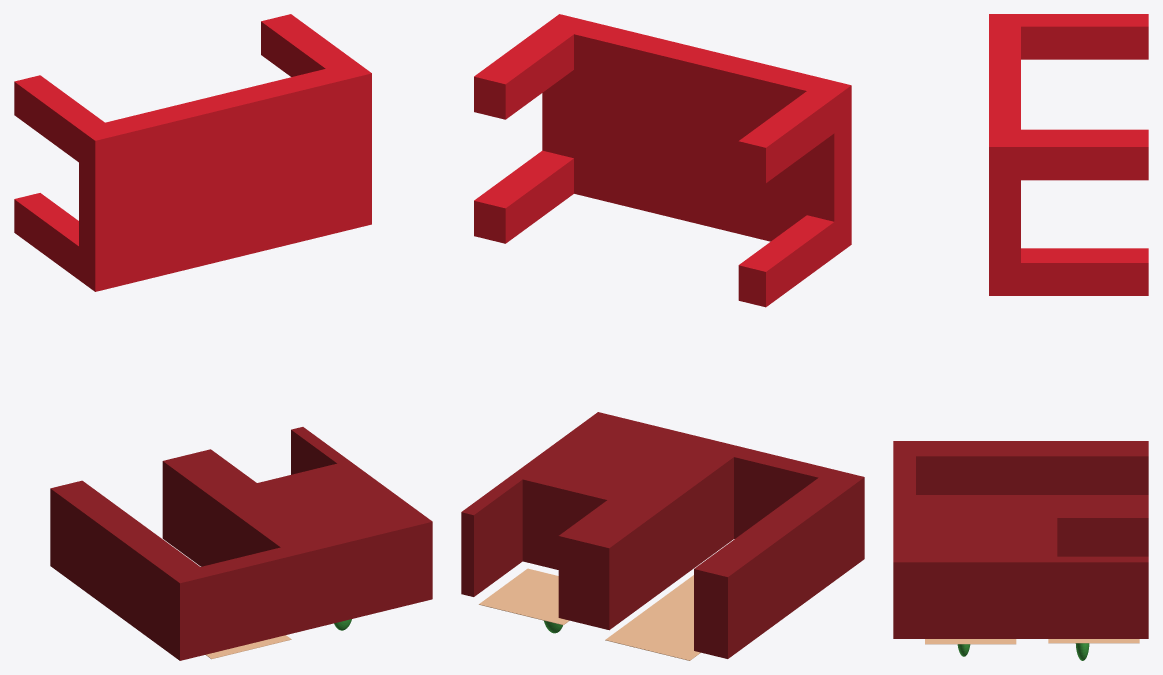
The model's file is tinker.obj.
3 renders of one model, left to right at view 1: azimuth 30°, elevation 25°; view 2: azimuth 150°, elevation 25°; view 3: azimuth 270°, elevation 25°, orthographic. The views are drawn at different scales.
Visible parts, largest first — view 1: group_0_15277357, group_0_9771553; view 2: group_0_15277357, group_0_9771553, group_0_16500122; view 3: group_0_9771553, group_0_15277357, group_0_16500122.
Boxes of the visible parts, x1=… form: group_0_15277357: x1=14, y1=14, x2=371, y2=291; group_0_9771553: x1=50, y1=427, x2=432, y2=660; group_0_15277357: x1=474, y1=14, x2=851, y2=307; group_0_9771553: x1=461, y1=412, x2=864, y2=658; group_0_16500122: x1=479, y1=568, x2=700, y2=660; group_0_9771553: x1=893, y1=441, x2=1148, y2=638; group_0_15277357: x1=989, y1=14, x2=1148, y2=295; group_0_16500122: x1=925, y1=639, x2=1139, y2=644.
Size of the model in its own units: 72 by 129 by 56.
